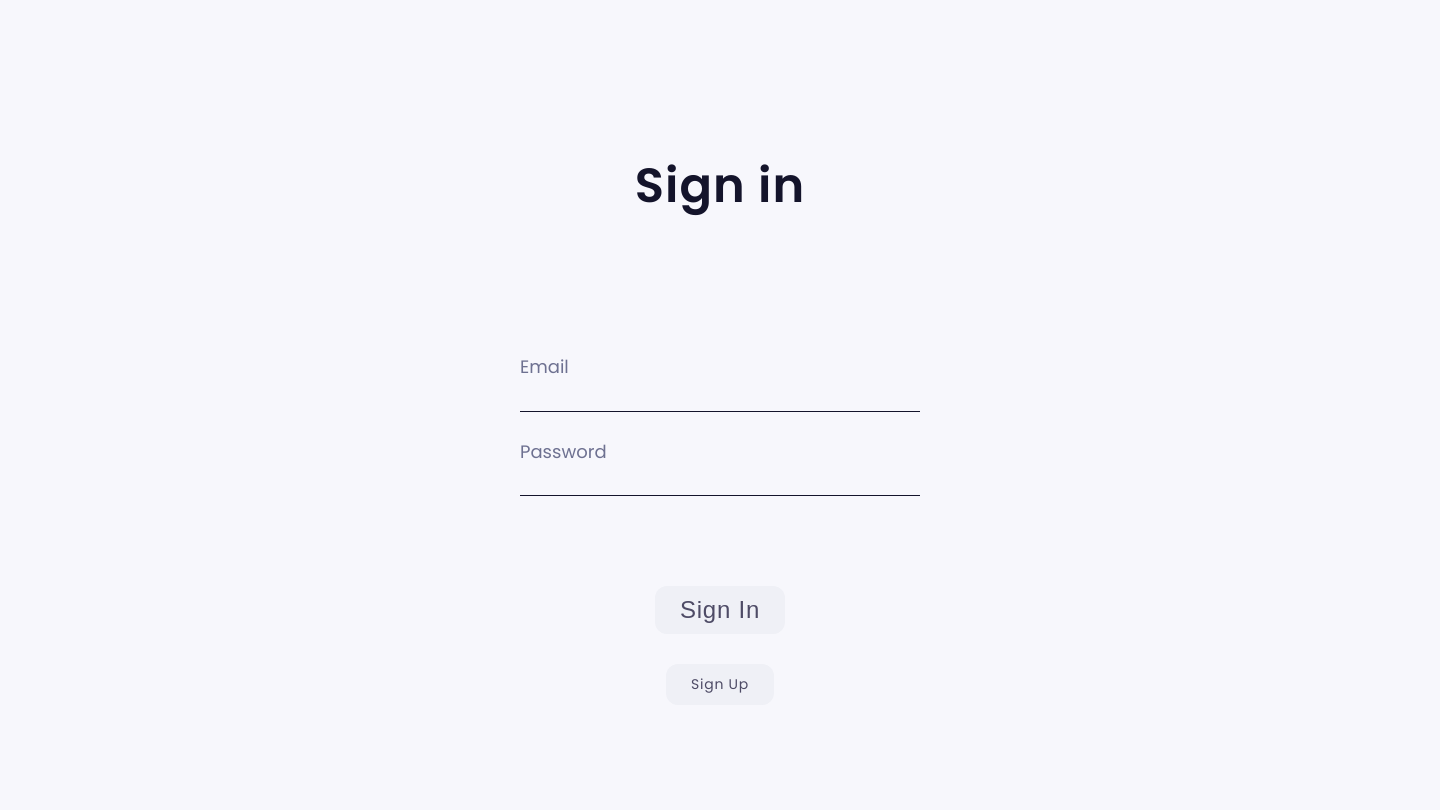
should signup as user
The width and height of the screenshot is (1440, 810).
Click the link "Sign Up" at (720, 685), box [666, 664, 774, 705]
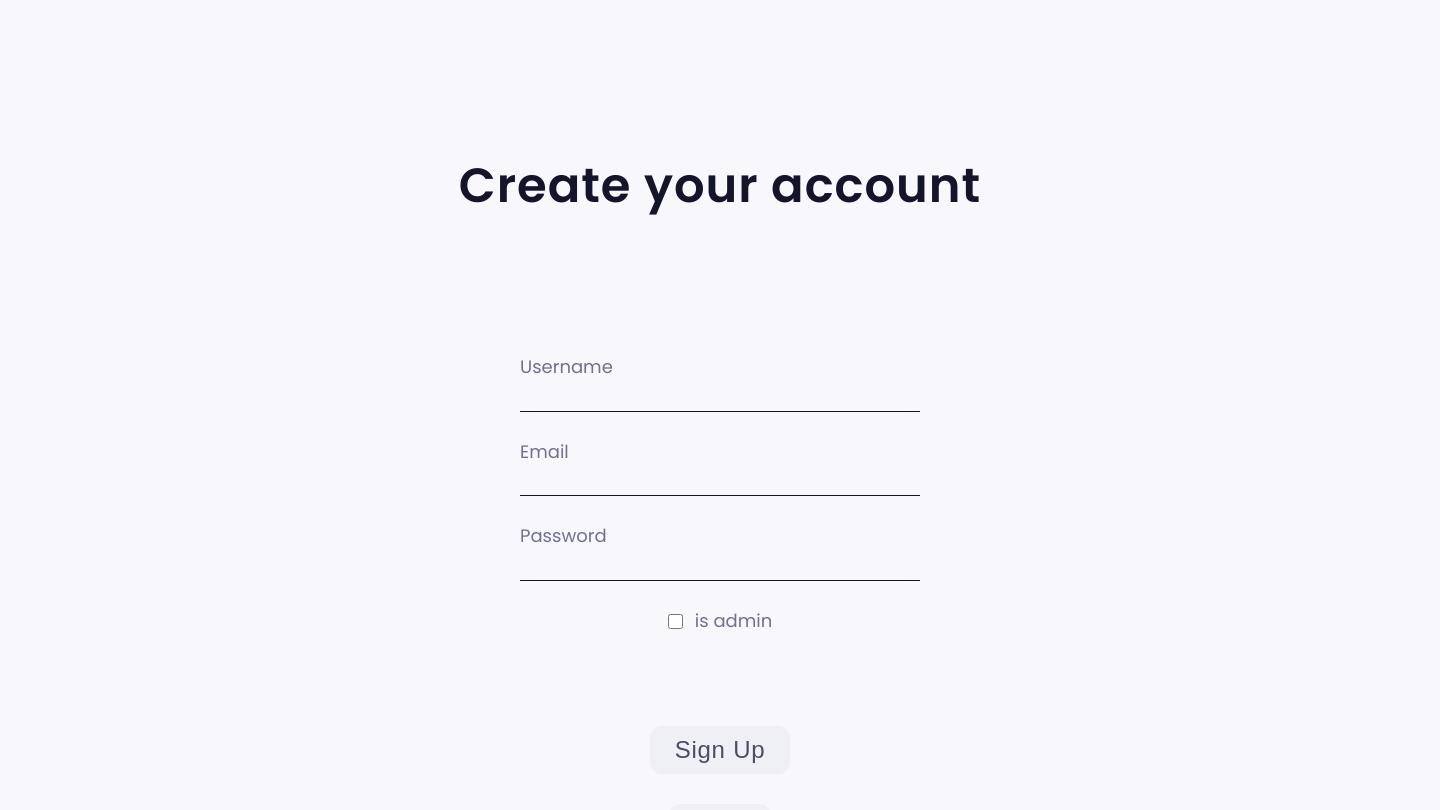
Type "alina" into the field labelled "Username" at (720, 397), box [520, 383, 920, 412]
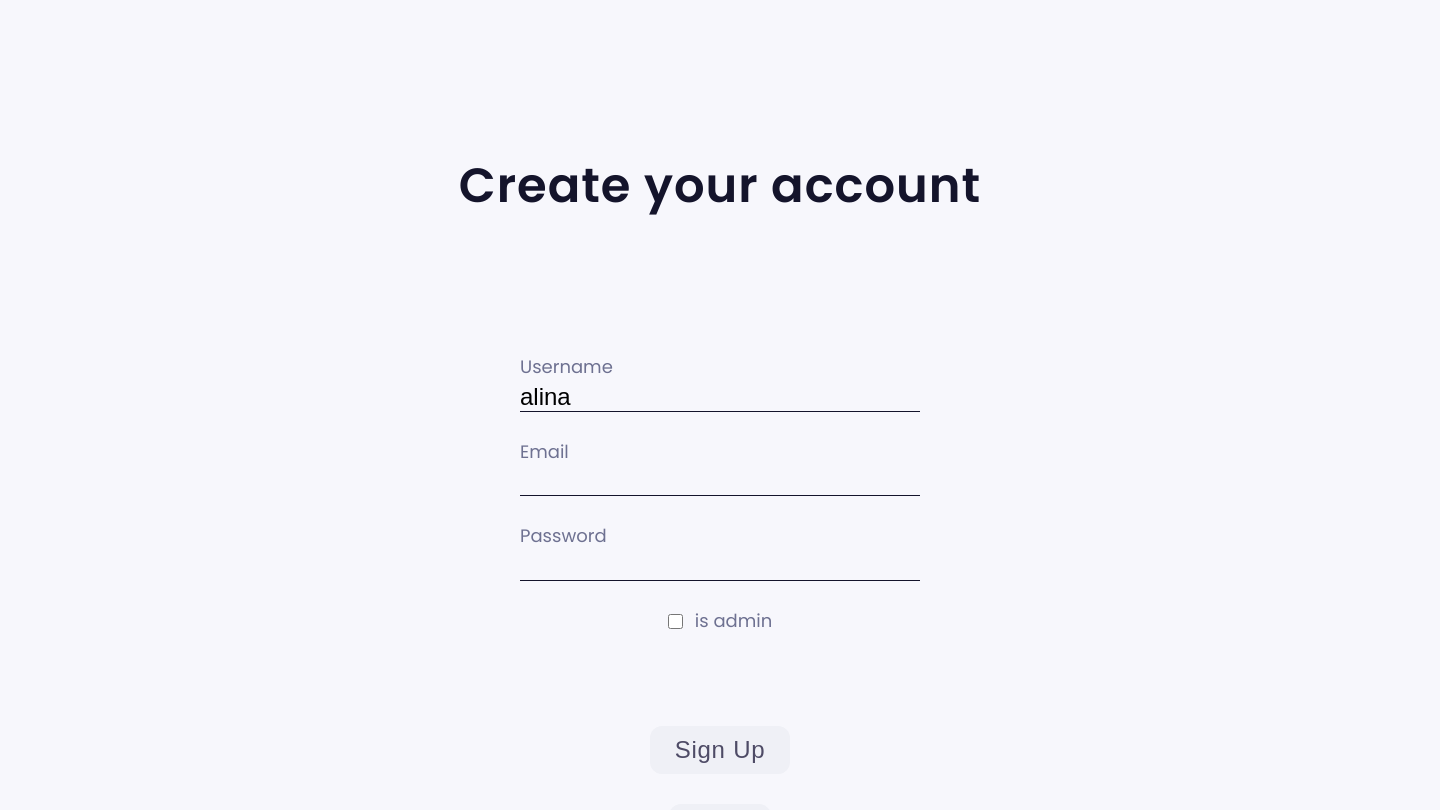
Type "alina@g" into the field labelled "Email" at (720, 482), box [520, 467, 920, 496]
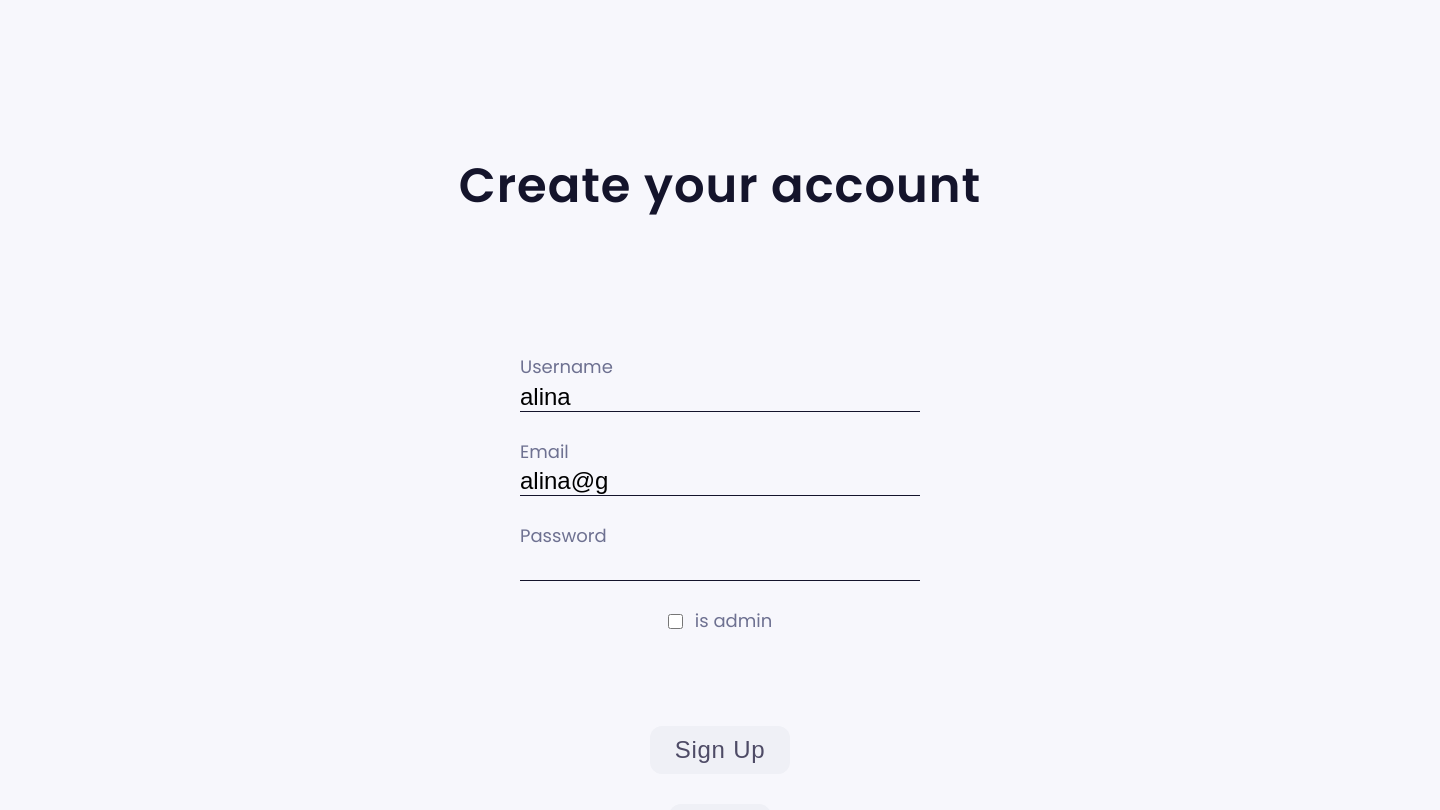
Type "123456" into the password field labelled "Password" at (720, 566), box [520, 552, 920, 581]
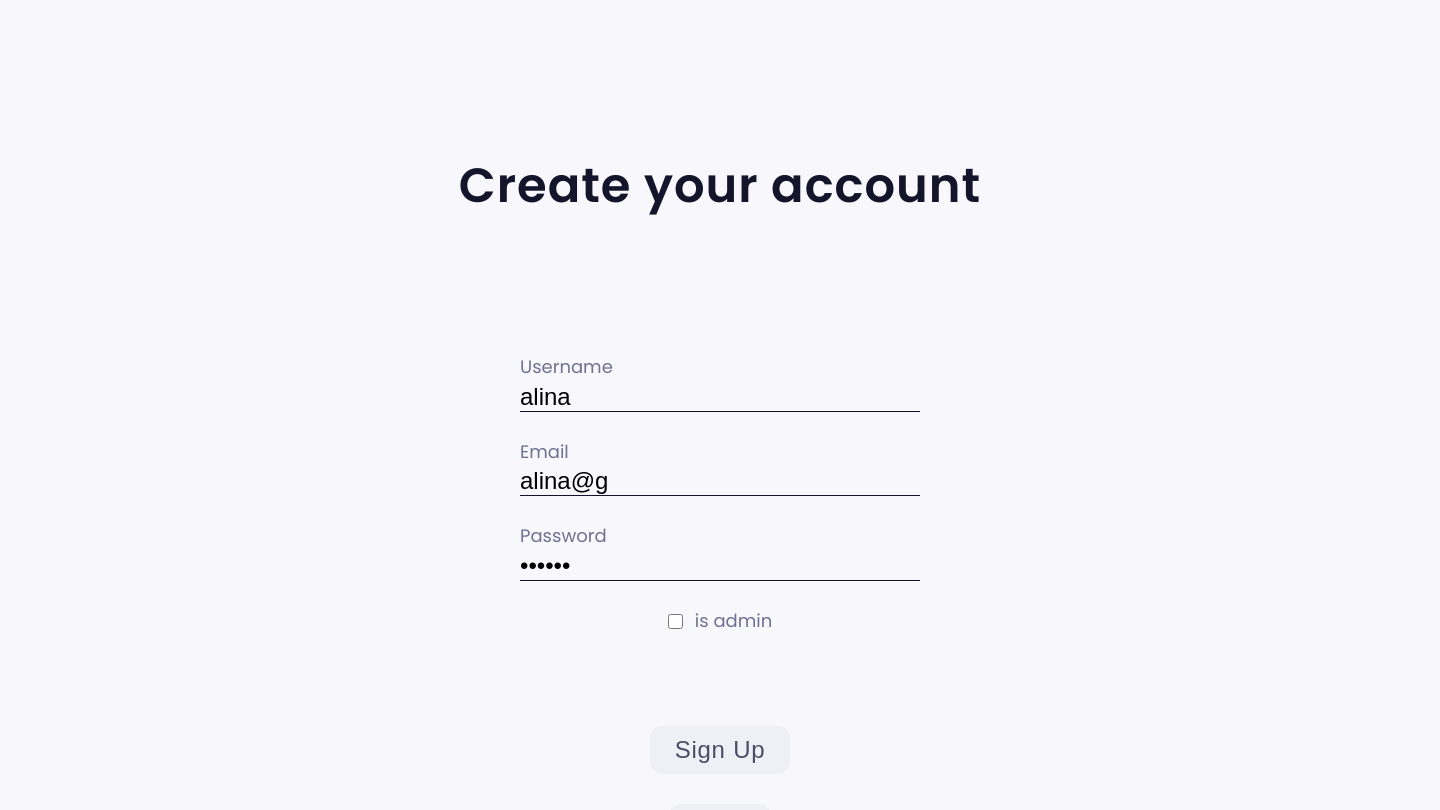
Check: the checkbox labelled "is admin" is not checked, box [668, 614, 683, 629]
Click the button "Sign Up" at (720, 750), box [650, 726, 790, 774]
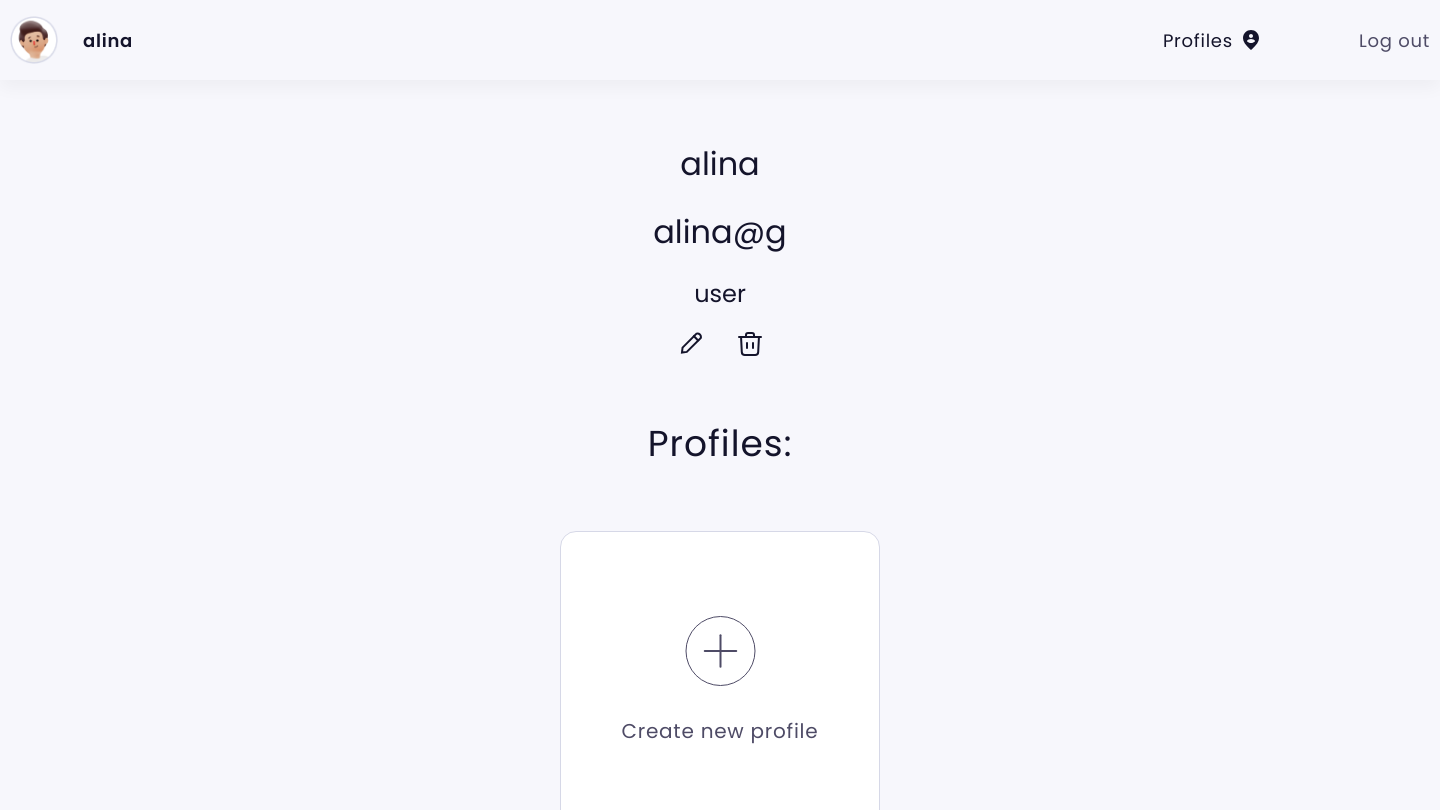
Check: the link "Log out" is shown, box [1359, 26, 1430, 54]
